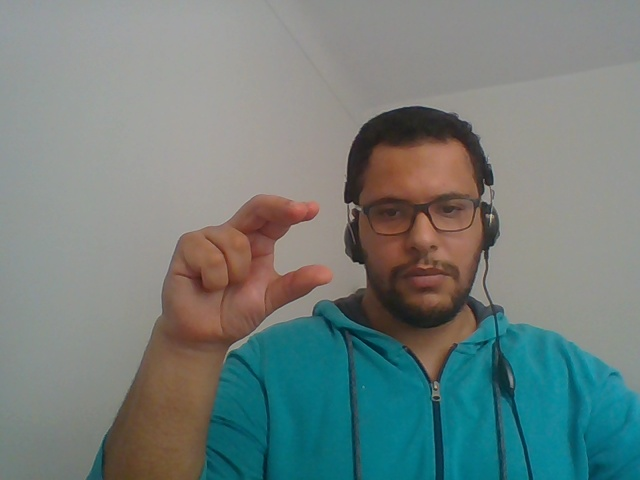no: (132, 172, 343, 371)
